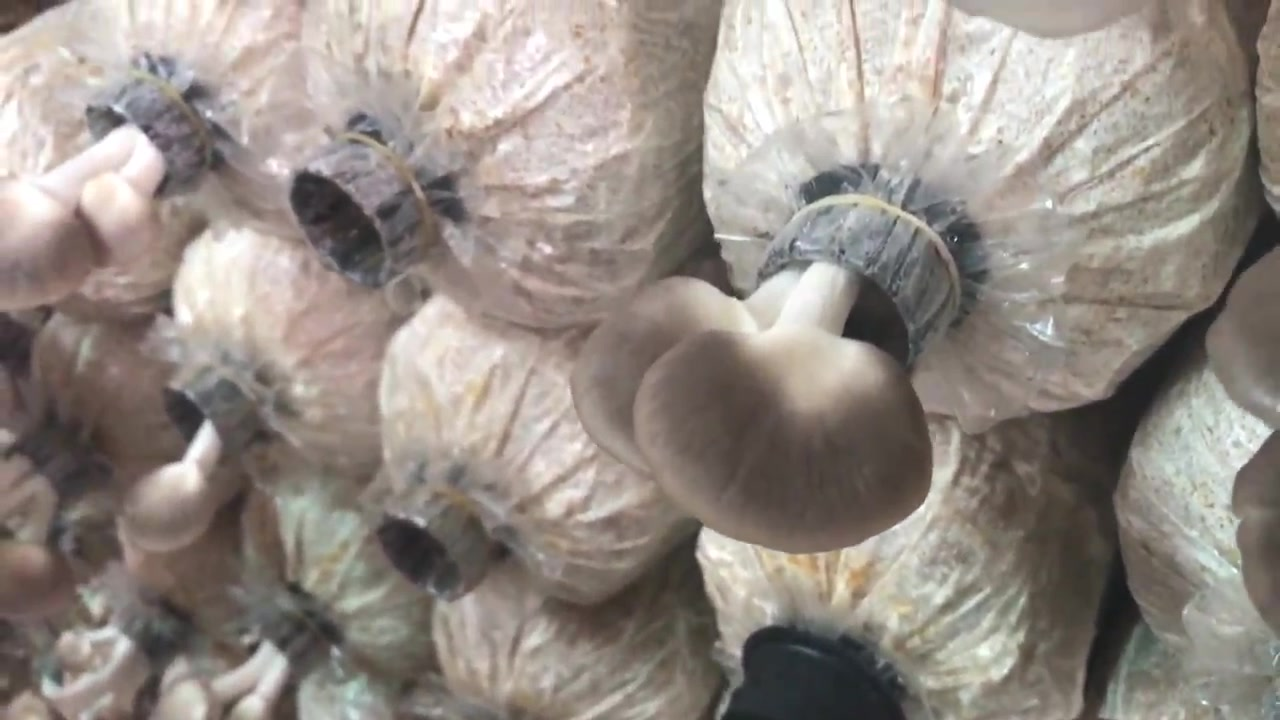nam: (570, 203, 959, 552), (1, 73, 193, 309), (125, 362, 264, 553)
